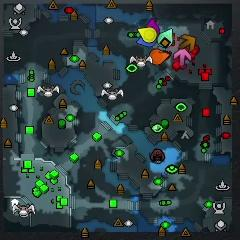p1: (137, 37, 156, 47)
p2: (157, 29, 173, 47)
p3: (147, 19, 159, 34)
p4: (136, 27, 156, 43)
p5: (149, 48, 169, 65)
x1: (174, 48, 191, 67)
x5: (179, 34, 196, 51)
